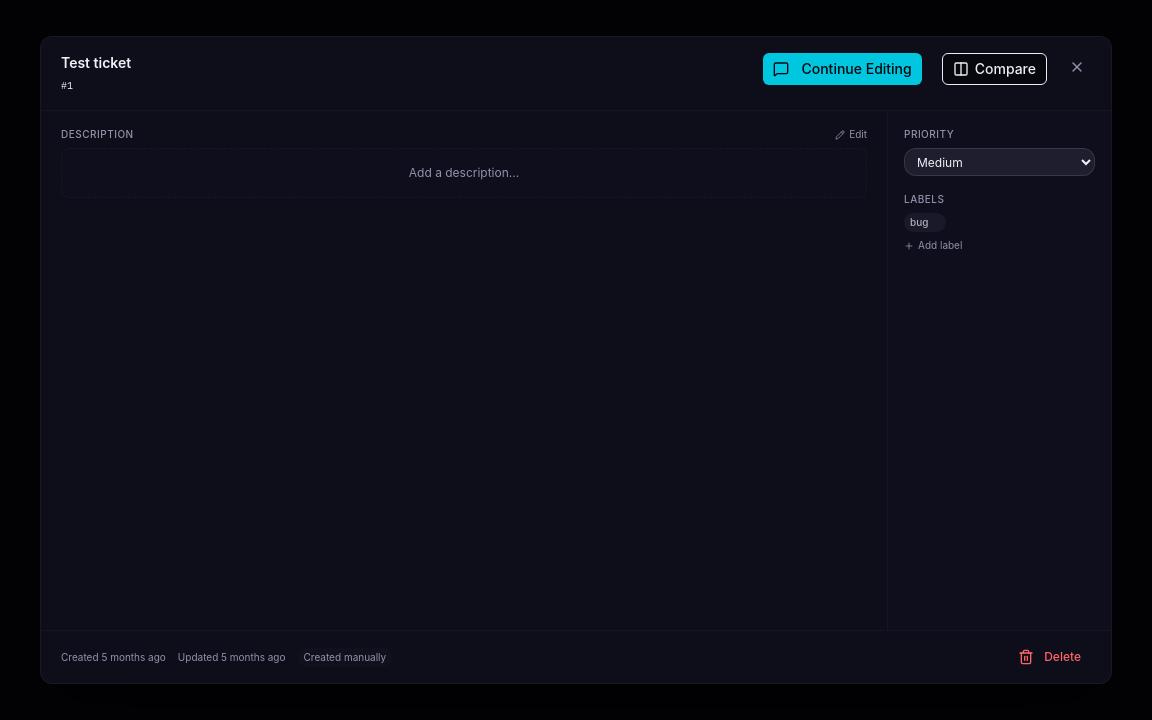
Test: TicketDetailModal › description editing › enters description edit mode when "Add a description..." is clicked
Click the button "Add a description...": (464, 173) [61,148,867,198]
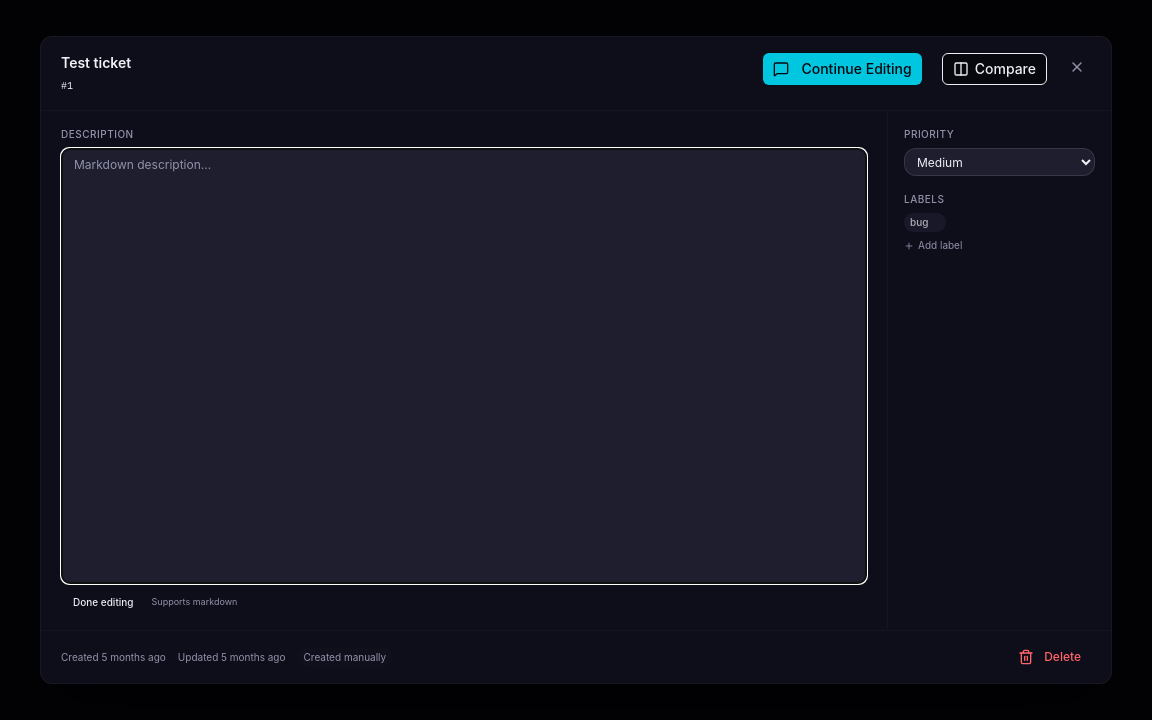
Result: the text box with placeholder "Markdown description..." is shown at [61,148,867,584]
